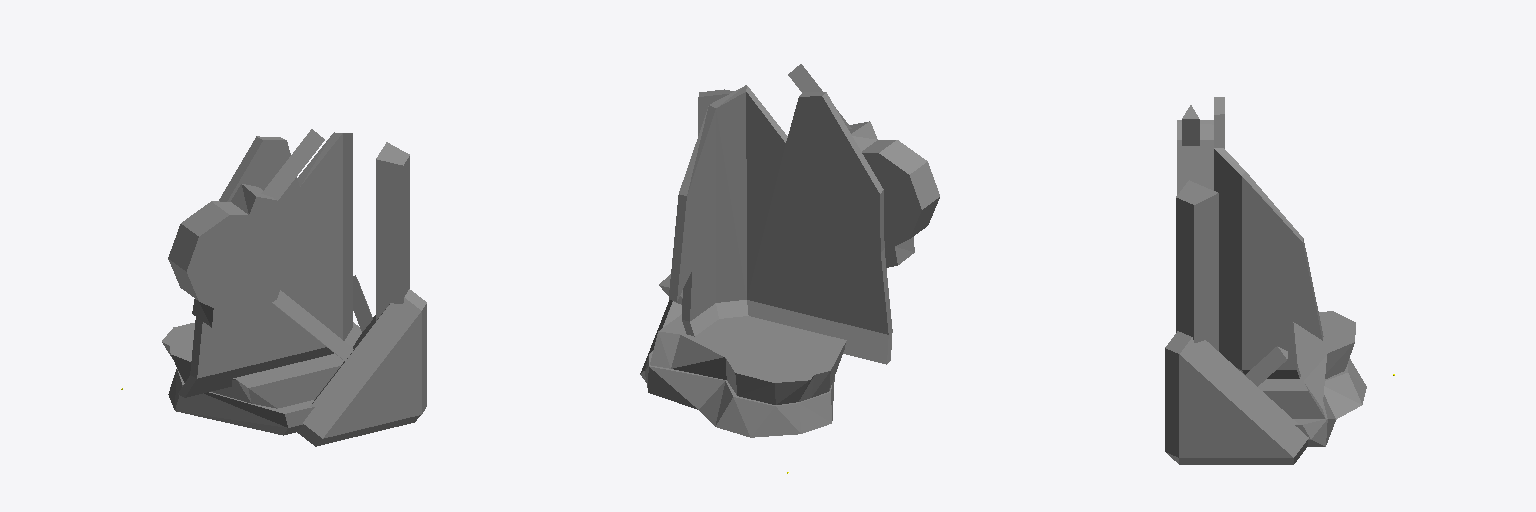
File: cpz_obj_breakbox_brk_006.obj
The picture shows the model from 3 angles: view 1: azimuth 30°, elevation 25°; view 2: azimuth 150°, elevation 25°; view 3: azimuth 270°, elevation 25°; orthographic projection.
Parts seen in each view (by area): view 1: cpz_glass_tn1_glasstube, cpz_metal_yy_slop_cmn_dpn, ccp_metal_yy_circle_Cmn_dpn, cpz_yy1_road_cmn_dp, cpz_metal_st1_tank01_cmn_dpnE, ccp_metal_yy_yelow_Cmn_dpn; view 2: cpz_glass_tn1_glasstube, cpz_metal_yy_slop_cmn_dpn, cpz_yy1_road_cmn_dp, ccp_metal_yy_yelow_Cmn_dpn; view 3: cpz_metal_yy_slop_cmn_dpn, cpz_glass_tn1_glasstube, cpz_metal_st1_tank01_cmn_dpnE, cpz_yy1_road_cmn_dp, ccp_metal_yy_yelow_Cmn_dpn.
Part boxes in pixels (left/top/right/bottom): cpz_glass_tn1_glasstube: left=178, top=132, right=352, bottom=397; cpz_metal_yy_slop_cmn_dpn: left=162, top=142, right=426, bottom=446; ccp_metal_yy_circle_Cmn_dpn: left=187, top=197, right=295, bottom=330; cpz_yy1_road_cmn_dp: left=168, top=129, right=409, bottom=360; cpz_metal_st1_tank01_cmn_dpnE: left=376, top=156, right=409, bottom=279; ccp_metal_yy_yelow_Cmn_dpn: left=237, top=322, right=361, bottom=408; cpz_glass_tn1_glasstube: left=669, top=85, right=892, bottom=364; cpz_metal_yy_slop_cmn_dpn: left=640, top=89, right=921, bottom=437; cpz_yy1_road_cmn_dp: left=659, top=64, right=939, bottom=304; ccp_metal_yy_yelow_Cmn_dpn: left=650, top=314, right=684, bottom=368; cpz_metal_yy_slop_cmn_dpn: left=1165, top=105, right=1366, bottom=464; cpz_glass_tn1_glasstube: left=1214, top=97, right=1323, bottom=378; cpz_metal_st1_tank01_cmn_dpnE: left=1176, top=193, right=1218, bottom=313; cpz_yy1_road_cmn_dp: left=1176, top=119, right=1286, bottom=386; ccp_metal_yy_yelow_Cmn_dpn: left=1258, top=381, right=1325, bottom=418.
Size of the model in its own units: 43.85 by 54.48 by 36.14.